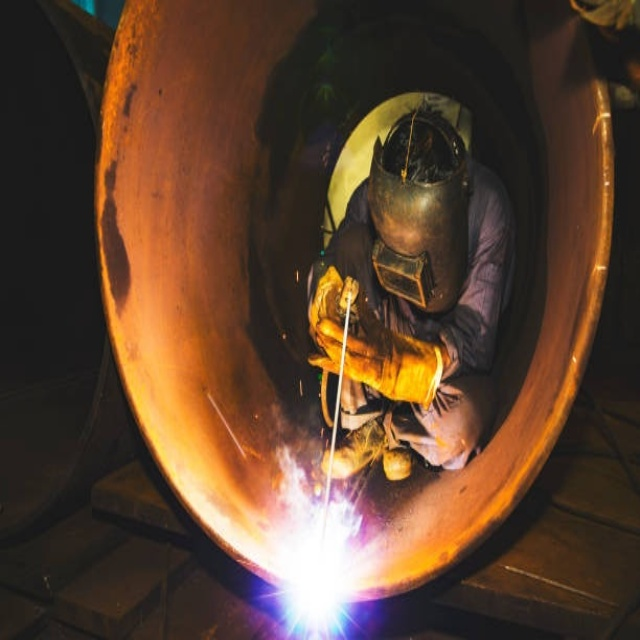Guantes: (310, 310, 443, 409), (310, 265, 360, 340)
